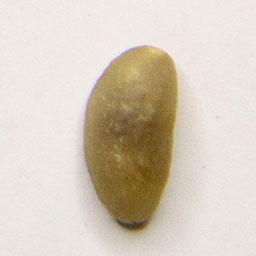longberry: (80, 41, 181, 234)
